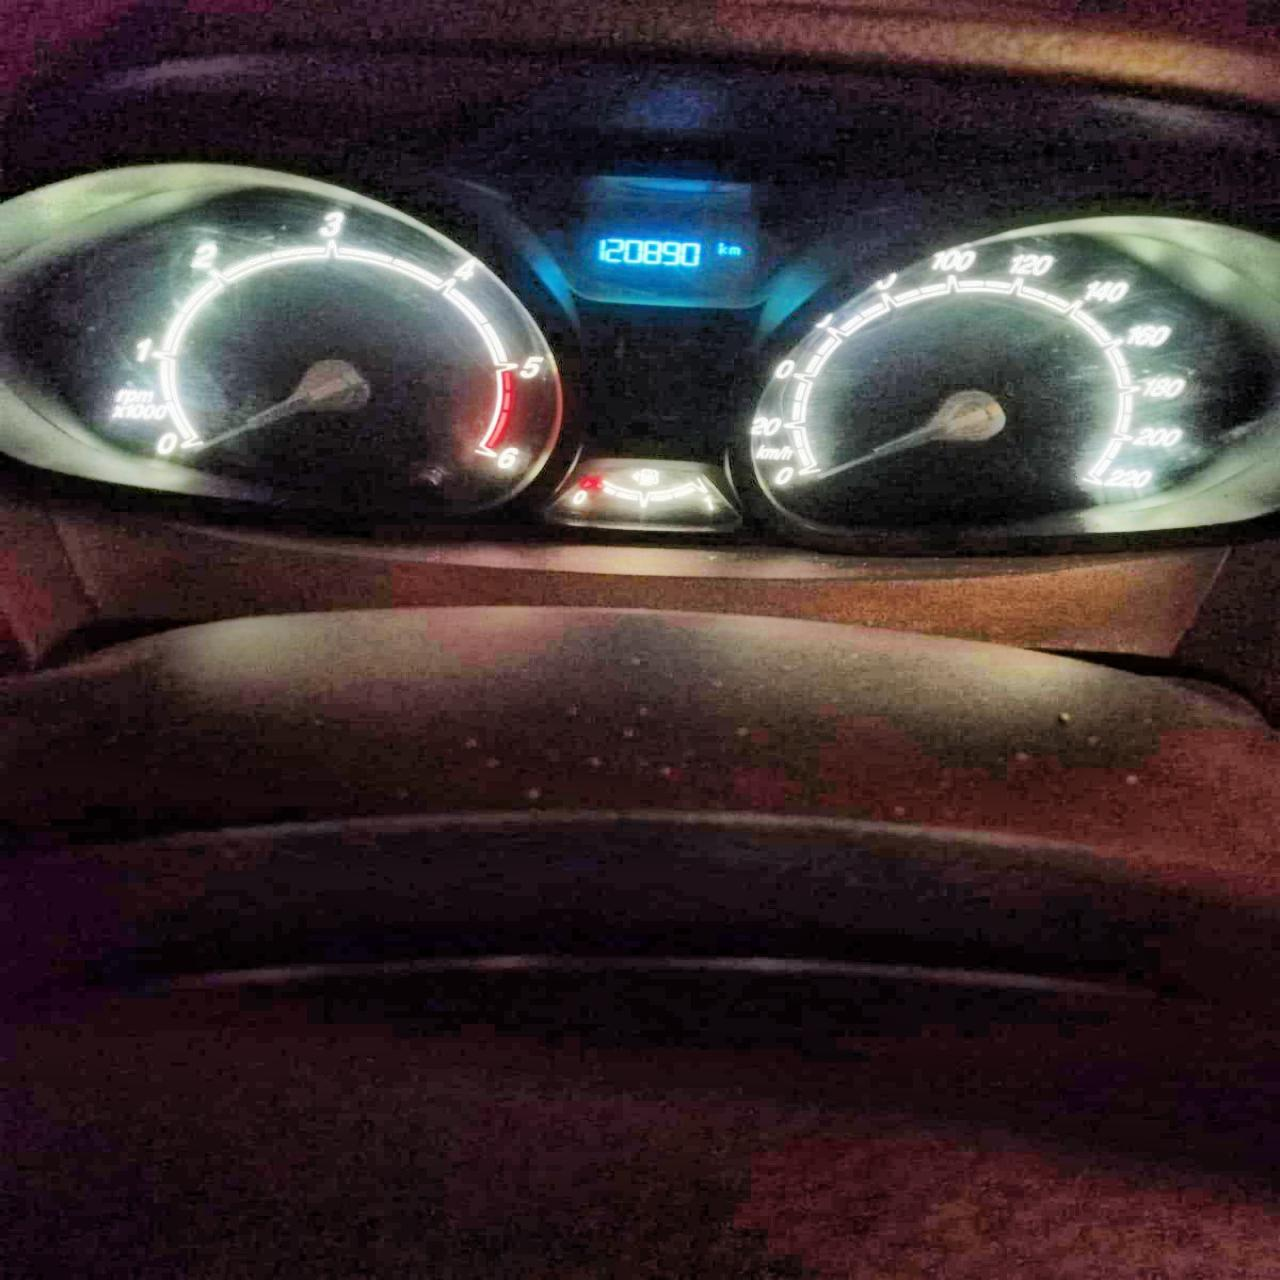0: (681, 240, 700, 266), (624, 238, 642, 264)
1: (598, 238, 606, 260)
2: (606, 238, 622, 263)
8: (644, 239, 661, 264)
9: (662, 240, 680, 265)
X: (716, 241, 728, 254), (728, 246, 741, 256)
odometer: (577, 224, 751, 287)
